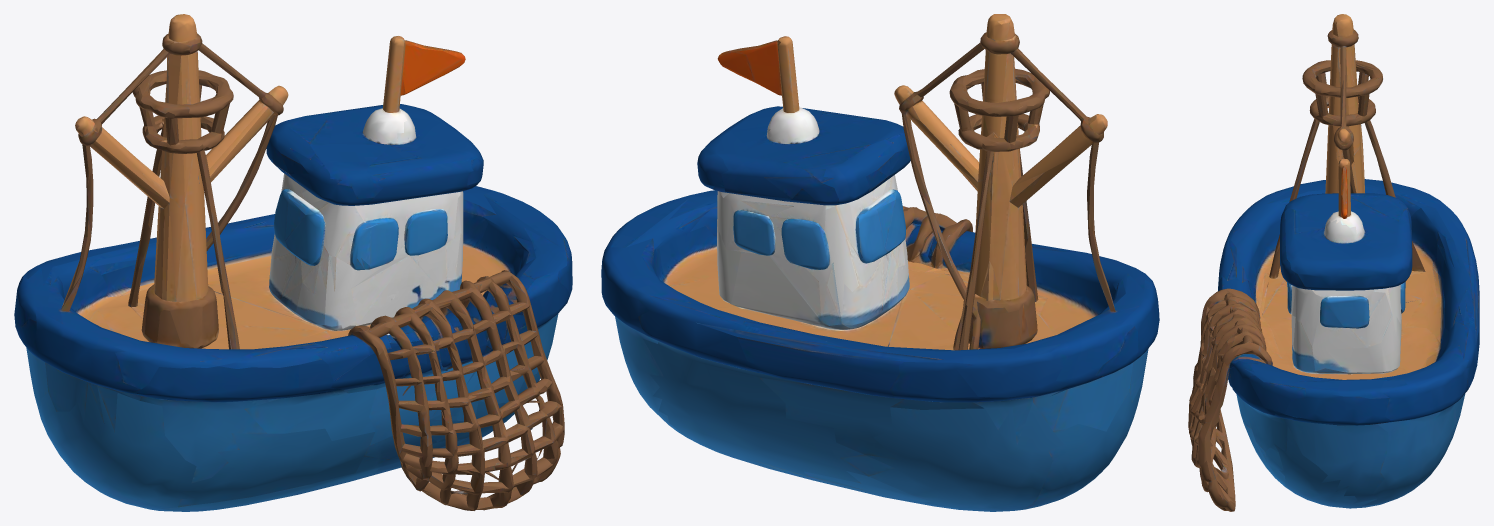
The model's file is vissersboot.glb.
3 renders of one model, left to right at view 1: azimuth 30°, elevation 25°; view 2: azimuth 150°, elevation 25°; view 3: azimuth 270°, elevation 25°, orthographic. The views are drawn at different scales.
Visible parts, largest first — view 1: Mesh_0; view 2: Mesh_0; view 3: Mesh_0.
Boxes of the visible parts, <box> form: Mesh_0: <box>14,14,572,511</box>; Mesh_0: <box>601,14,1159,511</box>; Mesh_0: <box>1188,14,1479,511</box>.
Bounding box in the file's own units: 1.9 × 1.75 × 1.16.
1 material, 1 textured.
